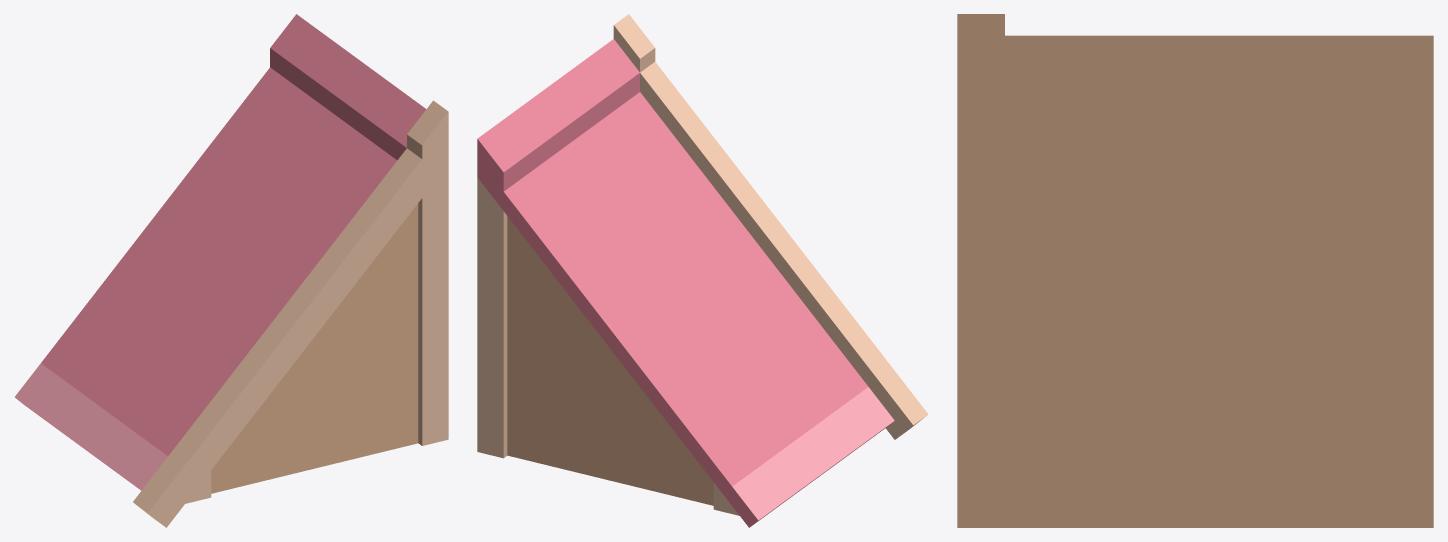
The picture shows the model from 3 angles, left to right: view 1: azimuth 30°, elevation 25°; view 2: azimuth 150°, elevation 25°; view 3: azimuth 270°, elevation 25°; orthographic projection. The views are drawn at different scales.
Parts seen in each view (by area): view 1: roofHighRight; view 2: roofHighRight; view 3: roofHighRight.
Part boxes in pixels (bbox=[...]): roofHighRight: bbox=[15, 14, 448, 527]; roofHighRight: bbox=[477, 14, 928, 527]; roofHighRight: bbox=[957, 14, 1433, 527].
Size of the model in its own units: 1.14 by 1.26 by 1.
